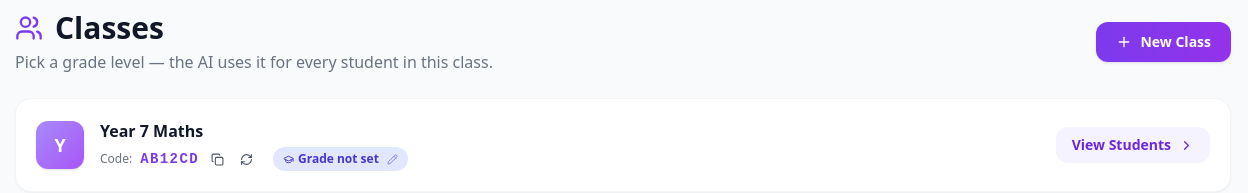
Test: editing a grade › opens a class with no grade on "Grade not set", and saving that untouched writes nothing
Expected: the text "Grade not set" is shown, [273,147,408,171]
Step 1. Click the button without text next to "Grade not set" → click(392, 159), box [387,154,398,164]
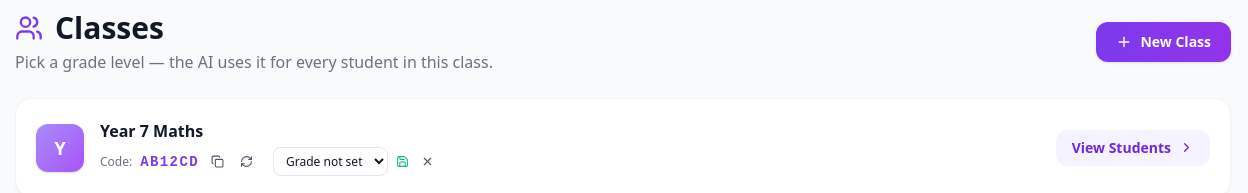
Expected: the dropdown shows "Grade not set", [273,147,388,176]
Step 2. Click the 4th button → click(402, 162), box [392,151,413,172]
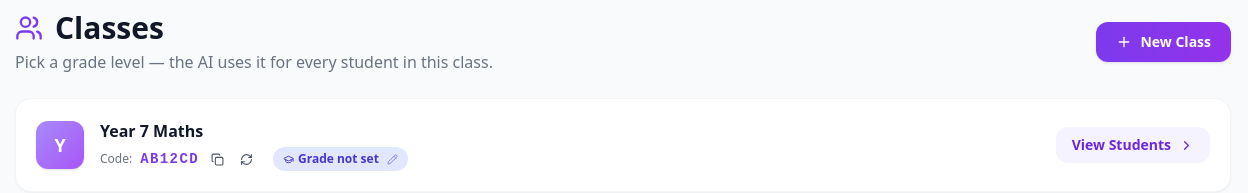
Expected: the text "Grade not set" is shown, [273,147,408,171]
